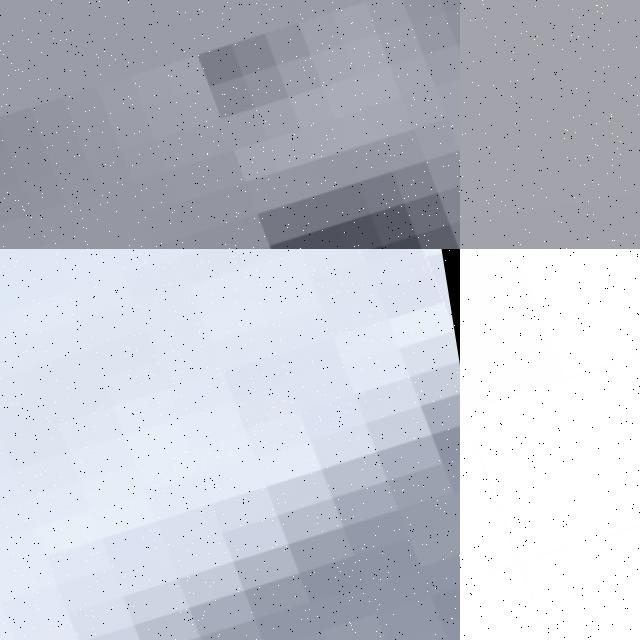0: (0, 0, 460, 249)
drone: (0, 249, 460, 640), (460, 249, 640, 640)
